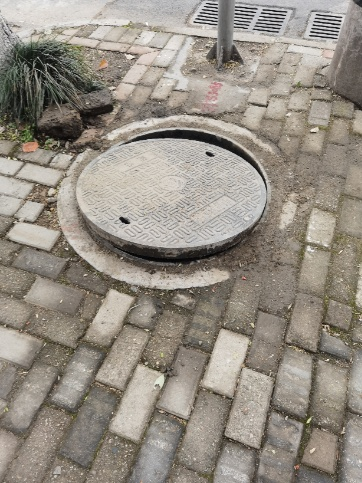uncovered: (57, 115, 288, 289)
